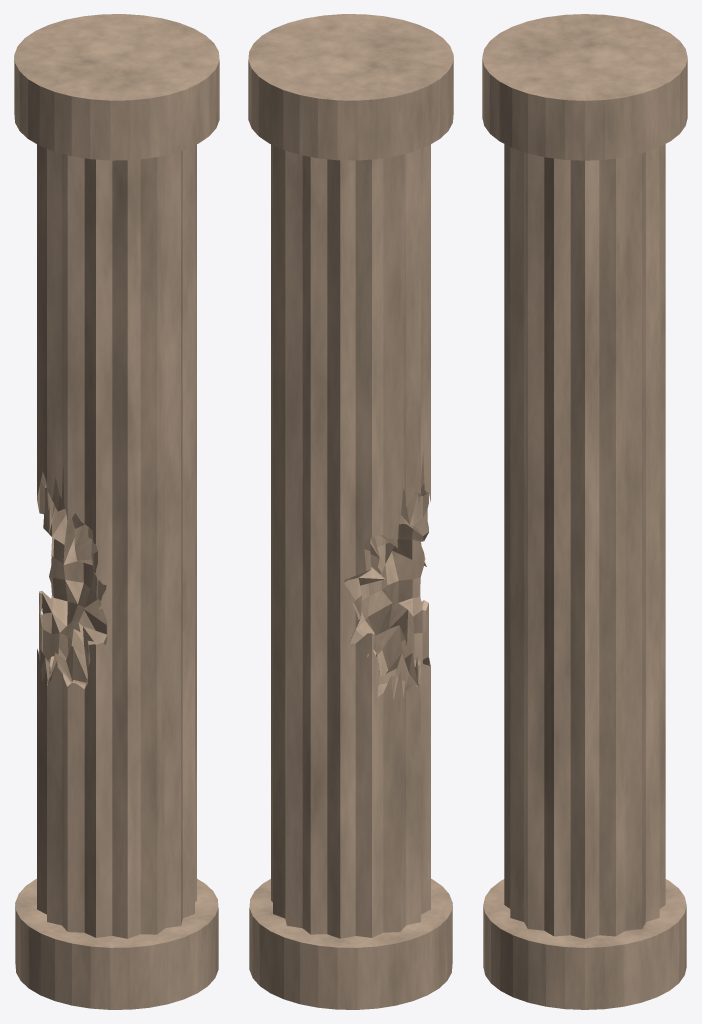
File: Pillar_Rock_Rounded_Broken.fbx
3 renders of one model, left to right at view 1: azimuth 30°, elevation 25°; view 2: azimuth 150°, elevation 25°; view 3: azimuth 270°, elevation 25°, orthographic.
Visible parts, largest first — view 1: Piilar_Circular_Broken.001; view 2: Piilar_Circular_Broken.001; view 3: Piilar_Circular_Broken.001.
Boxes of the visible parts, <box> form: Piilar_Circular_Broken.001: <box>14,14,219,1009</box>; Piilar_Circular_Broken.001: <box>248,14,453,1009</box>; Piilar_Circular_Broken.001: <box>482,14,687,1009</box>.
Size of the model in its own units: 106 by 517 by 106.
Materials: 1 (1 with a texture image).
